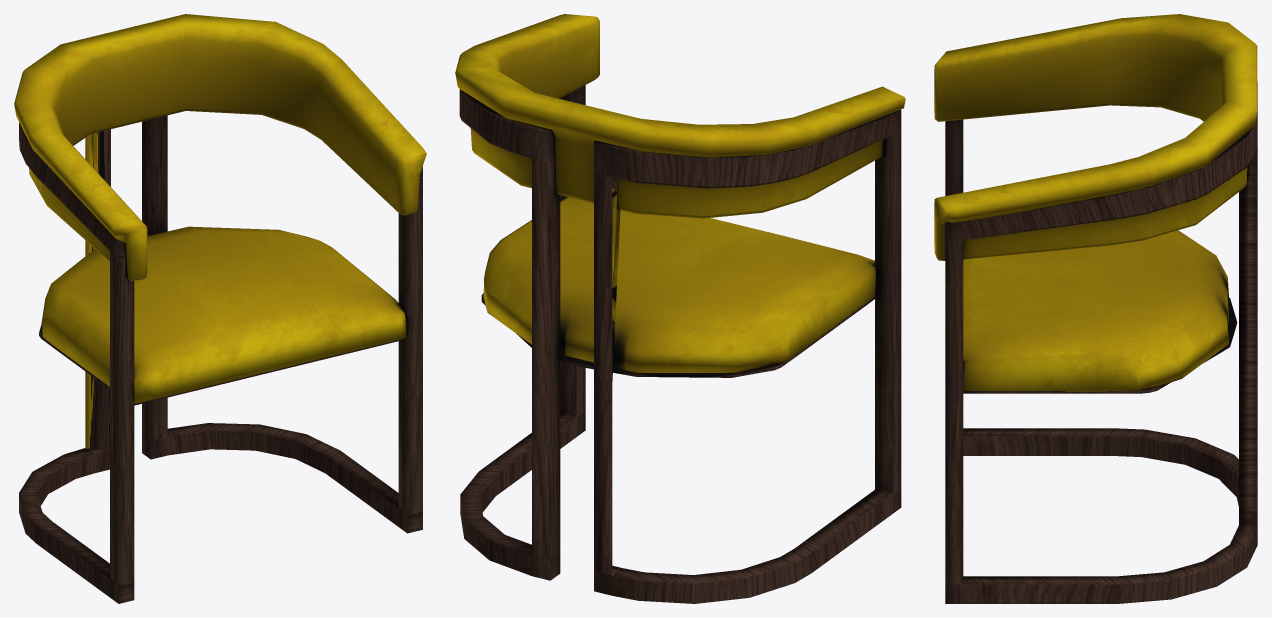
The model's file is Kelsey Arm Chair.fbx.
3 views of the same model, side by side, from view 1: azimuth 30°, elevation 25°; view 2: azimuth 150°, elevation 25°; view 3: azimuth 270°, elevation 25° (orthographic). The views are drawn at different scales.
Parts seen in each view (by area): view 1: Kelsey Arm Chair; view 2: Kelsey Arm Chair; view 3: Kelsey Arm Chair.
Boxes of the visible parts, bbox=[...] form: Kelsey Arm Chair: bbox=[14, 14, 426, 603]; Kelsey Arm Chair: bbox=[455, 14, 905, 603]; Kelsey Arm Chair: bbox=[934, 14, 1257, 603].
Size of the model in its own units: 0.8038 by 1.05 by 0.6837.
Materials: 1 (1 with a texture image).
